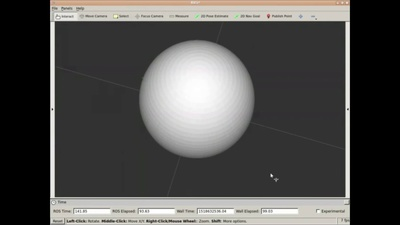mira_robot: (139, 39, 256, 160)
